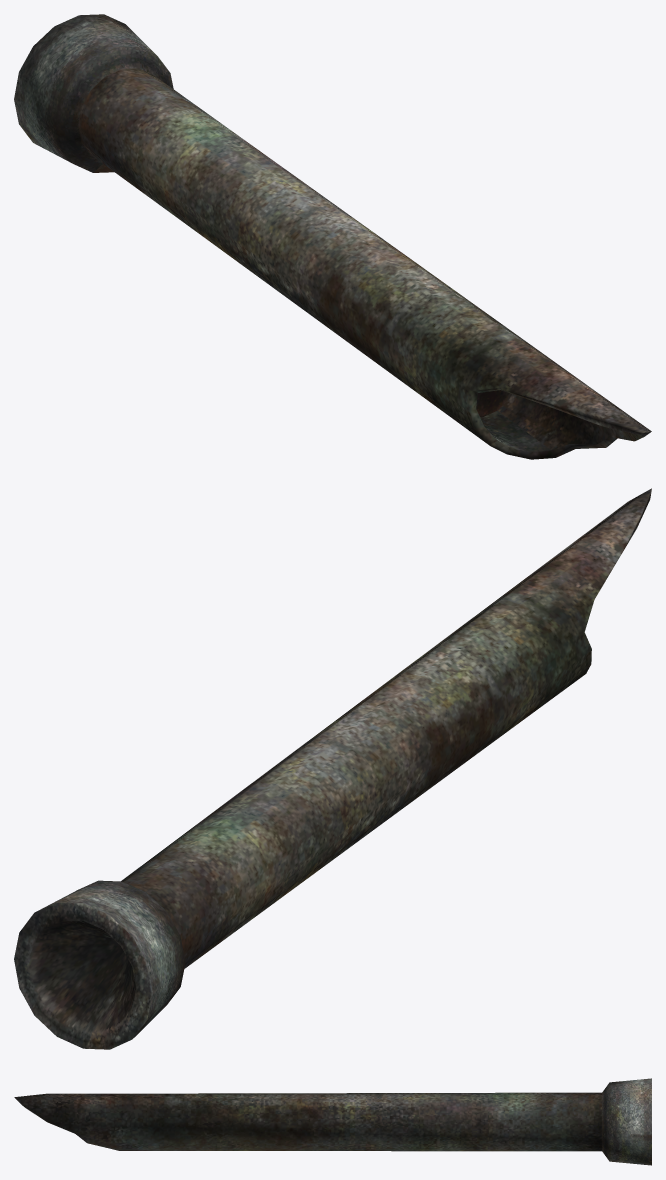
File: pipe_broken_small.dae
The picture shows the model from 3 angles, top to bottom: view 1: azimuth 30°, elevation 25°; view 2: azimuth 150°, elevation 25°; view 3: azimuth 270°, elevation 25°; orthographic projection. The views are drawn at different scales.
Visible parts, largest first — view 1: pipe_broken_small; view 2: pipe_broken_small; view 3: pipe_broken_small.
Boxes of the visible parts, left/top/right/bottom form: pipe_broken_small: left=14, top=14, right=651, bottom=459; pipe_broken_small: left=14, top=488, right=651, bottom=1049; pipe_broken_small: left=14, top=1078, right=651, bottom=1165.
Size of the model in its own units: 0.2058 by 0.2057 by 1.5.
